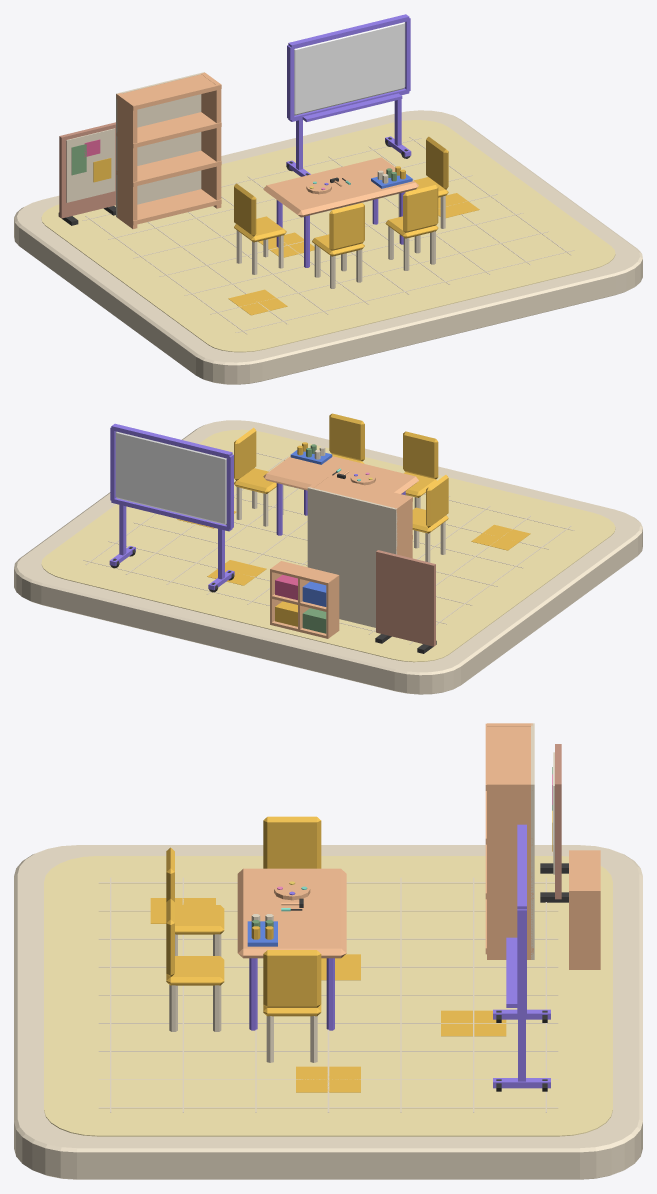
3 views of the same model, one above another, from view 1: azimuth 30°, elevation 25°; view 2: azimuth 150°, elevation 25°; view 3: azimuth 270°, elevation 25° (orthographic). The views are drawn at different scales.
Visible parts, largest first — view 1: COM-02 Floor Surface, COM-01 Rounded Base Direct, Writing surface, Rounded table top, Back, Side, Canvas, Side.001, Panel, Shelf.003, Shelf.001, Shelf.002 (+12 smaller); view 2: COM-02 Floor Surface, COM-01 Rounded Base Direct, Back, Writing surface, Panel, Rounded table top, Backrest.002, Backrest.003, Shelf.003, Frame rail.001, Backrest, Backrest.001 (+15 smaller); view 3: COM-02 Floor Surface, COM-01 Rounded Base Direct, Rounded table top, Side.001, Backrest.001, Backrest, Shelf.003, Cubbies divider.002, Geometric color tile.003, Geometric color tile.002, Seat.003, Seat.002 (+12 smaller).
Part boxes in pixels (<box>): COM-02 Floor Surface: <box>41,120,615,352</box>; COM-01 Rounded Base Direct: <box>14,110,642,384</box>; Writing surface: <box>294,22,405,115</box>; Rounded table top: <box>263,157,418,217</box>; Back: <box>116,72,204,217</box>; Side: <box>117,93,137,228</box>; Canvas: <box>66,128,115,202</box>; Side.001: <box>201,72,221,208</box>; Panel: <box>59,122,115,218</box>; Shelf.003: <box>116,74,221,110</box>; Shelf.001: <box>116,150,221,186</box>; Shelf.002: <box>116,112,221,148</box>; COM-02 Floor Surface: <box>41,429,615,662</box>; COM-01 Rounded Base Direct: <box>14,420,642,694</box>; Back: <box>307,487,397,627</box>; Writing surface: <box>115,431,226,524</box>; Panel: <box>376,550,435,646</box>; Rounded table top: <box>263,456,418,493</box>; Backrest.002: <box>403,431,438,479</box>; Backrest.003: <box>329,413,364,461</box>; Shelf.003: <box>314,475,412,512</box>; Frame rail.001: <box>111,423,232,458</box>; Backrest: <box>426,475,448,527</box>; Backrest.001: <box>234,427,256,480</box>; COM-02 Floor Surface: <box>44,856,612,1136</box>; COM-01 Rounded Base Direct: <box>14,845,642,1179</box>; Rounded table top: <box>237,868,346,958</box>; Side.001: <box>487,781,532,959</box>; Backrest.001: <box>263,950,321,1007</box>; Backrest: <box>263,816,321,868</box>; Shelf.003: <box>485,723,532,790</box>; Cubbies divider.002: <box>569,890,600,969</box>; Geometric color tile.003: <box>296,1066,360,1092</box>; Geometric color tile.002: <box>441,1010,506,1036</box>; Seat.003: <box>166,956,224,985</box>; Seat.002: <box>175,905,224,934</box>.
Size of the model in its own units: 6 by 2.04 by 5.2.
Materials: 1 (1 with a texture image).
